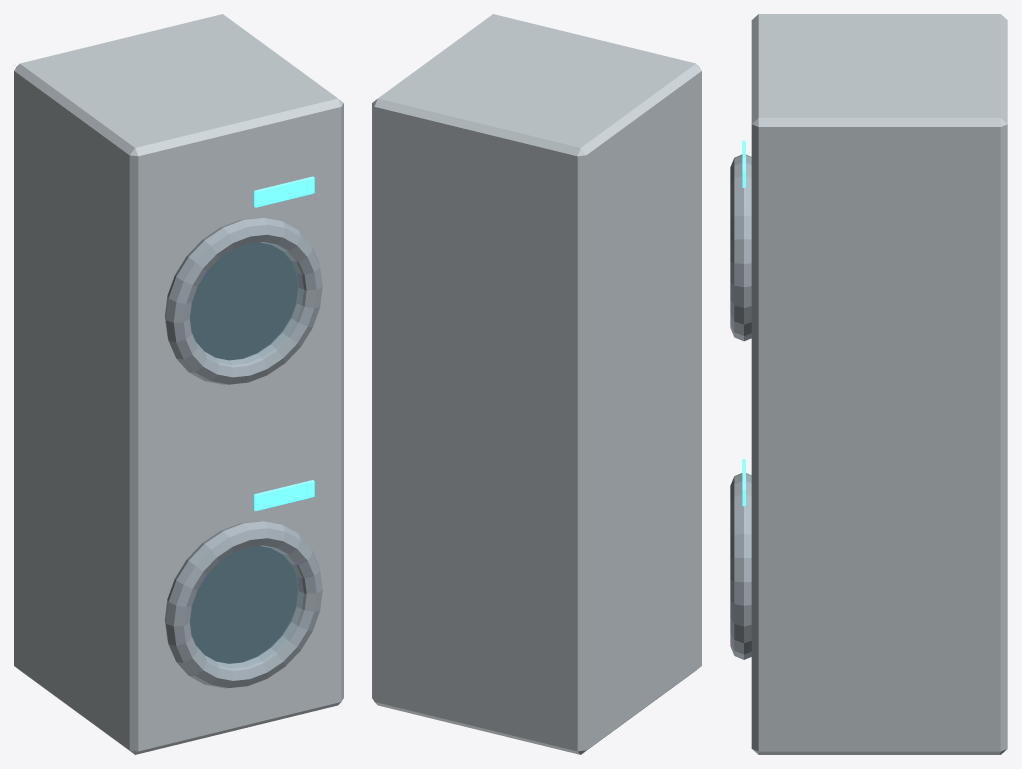
Rendered from utility_02.glb.
The picture shows the model from 3 angles, left to right: view 1: azimuth 30°, elevation 25°; view 2: azimuth 150°, elevation 25°; view 3: azimuth 270°, elevation 25°; orthographic projection. The views are drawn at different scales.
Parts seen in each view (by area): view 1: Appliance, DrumRim (×2), DrumGlass (×2), DrumDark (×2), Display (×2); view 2: Appliance; view 3: Appliance, DrumRim (×2).
Part boxes in pixels (bbox=[...]): Appliance: bbox=[14, 14, 343, 754]; DrumRim (×2): bbox=[164, 217, 322, 688]; DrumGlass (×2): bbox=[190, 242, 303, 668]; DrumDark (×2): bbox=[190, 242, 298, 663]; Display (×2): bbox=[254, 176, 314, 511]; Appliance: bbox=[372, 14, 701, 754]; Appliance: bbox=[751, 14, 1007, 754]; DrumRim (×2): bbox=[730, 154, 751, 659].
Size of the model in its own units: 0.68 by 1.84 by 0.726.
